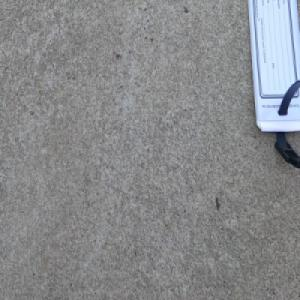LuggageTag: (245, 0, 300, 170)
